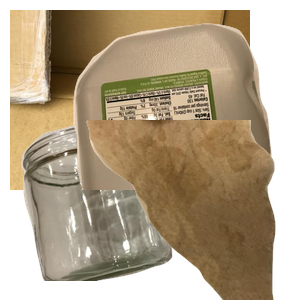cardboard: (10, 10, 250, 190)
glass: (19, 120, 184, 300)
plastic: (71, 21, 300, 201)
trash: (84, 120, 300, 300)
